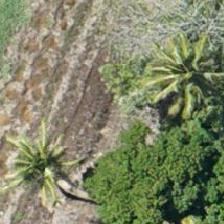coconut_tree: (2, 123, 92, 213), (161, 36, 223, 126)
